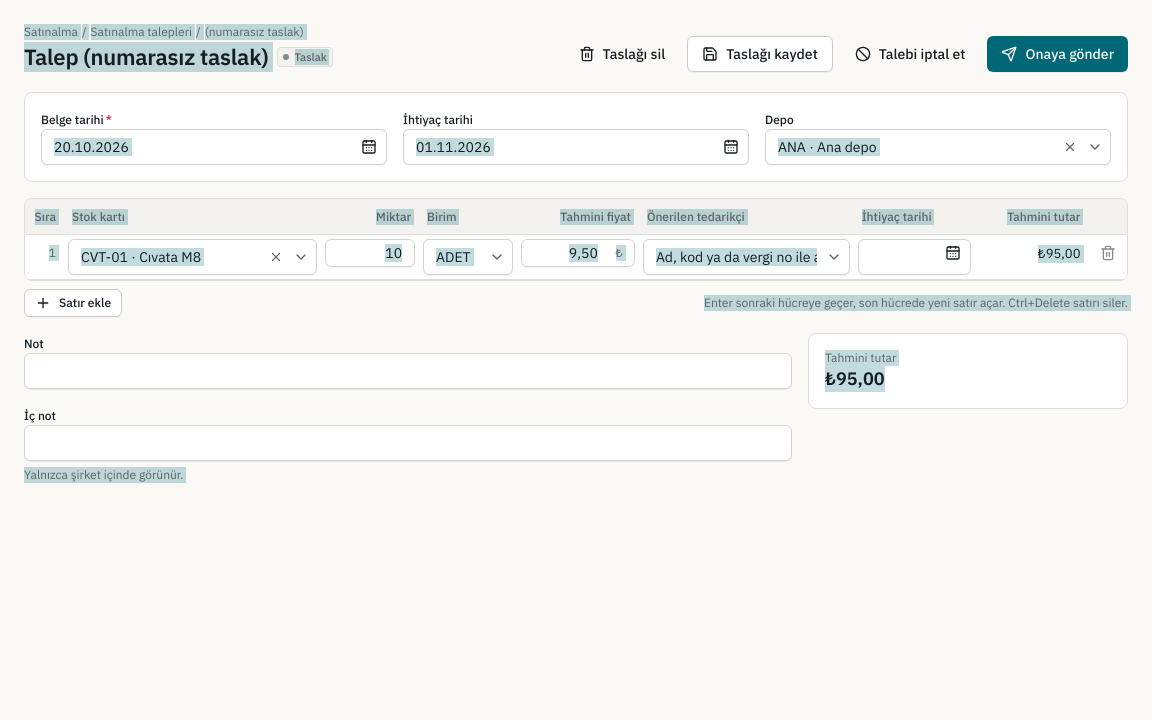
it: purchase requests › submits a draft and sends it for approval above the threshold
The width and height of the screenshot is (1152, 720).
Expected: the table named "Satırlar" is shown, [25,199,1127,280]
Click the button "Onaya gönder": [1058, 54] box [988,36,1128,72]
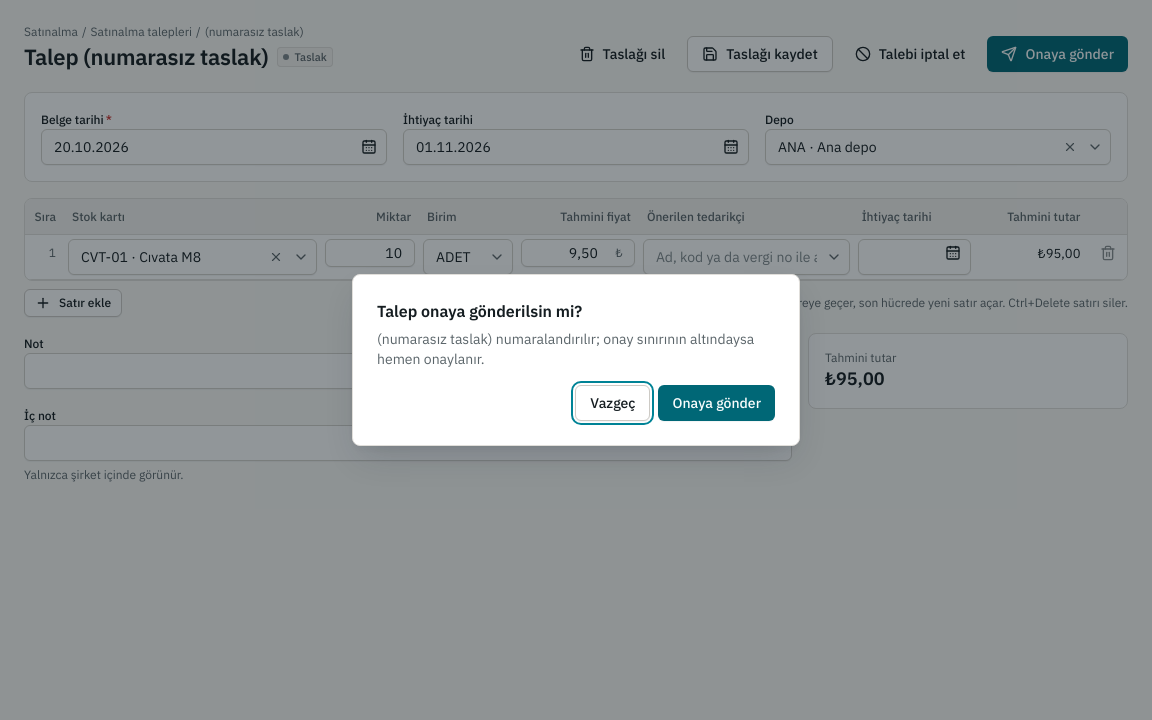
Click the button "Onaya gönder": [717, 403] box [658,385,775,421]
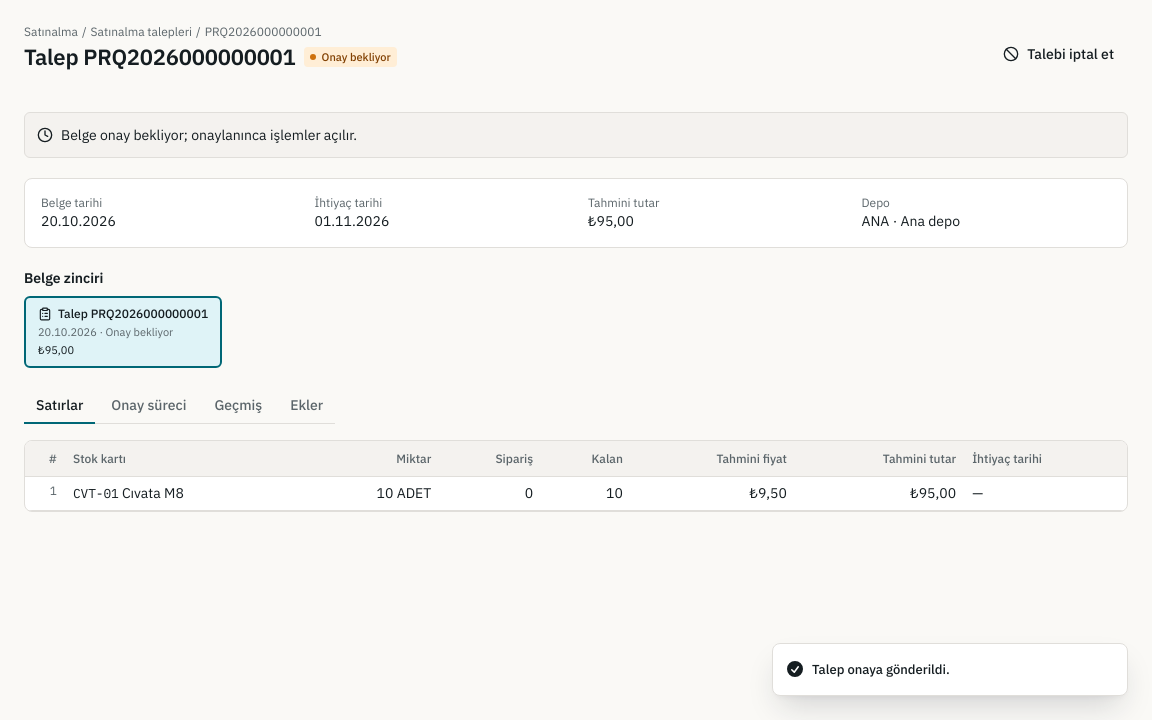
Expected: the text "Belge onay bekliyor; onaylanınca işlemler açılır." is shown, [61,125,357,145]
